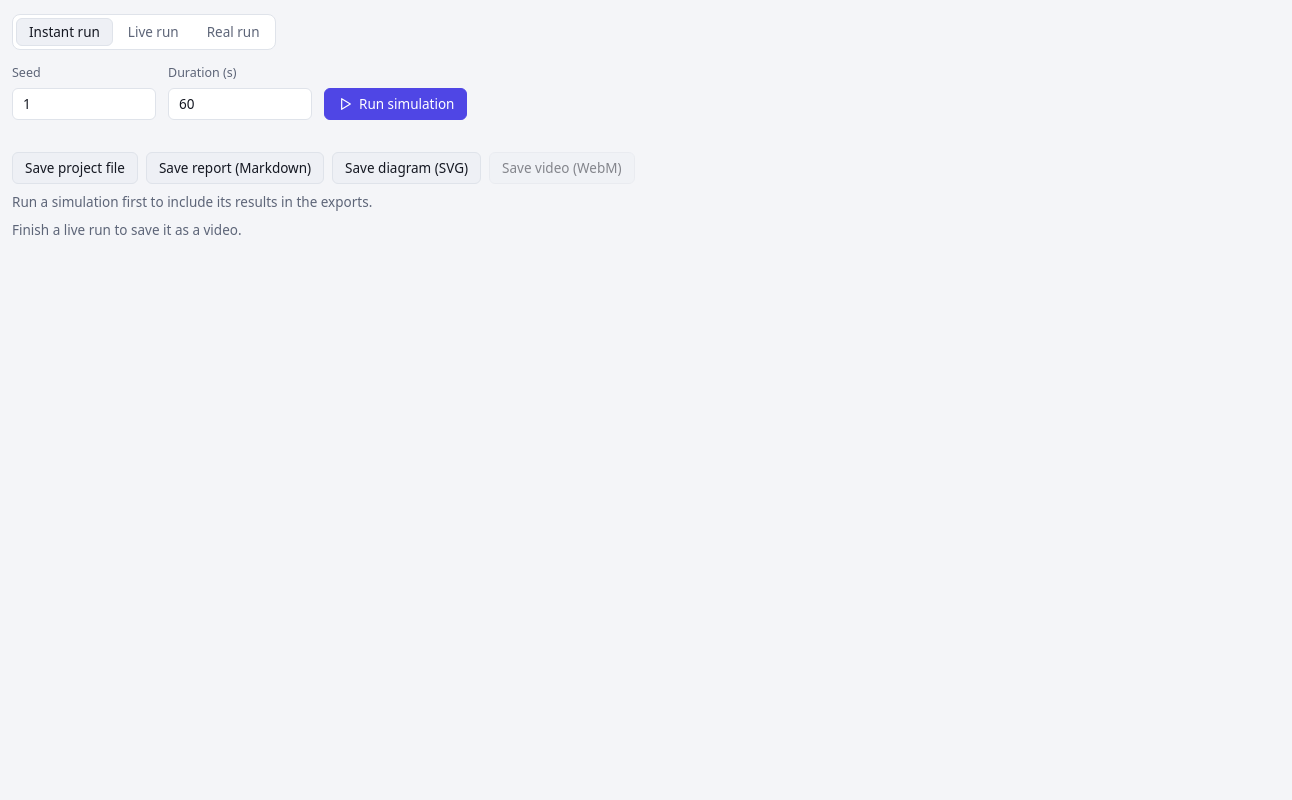
SimulateTab › switches between instant and live runs
Expected: the button "Run simulation" is shown, [324,88,467,120]
Click the button "Live run" at (153,32), box [115,18,192,46]
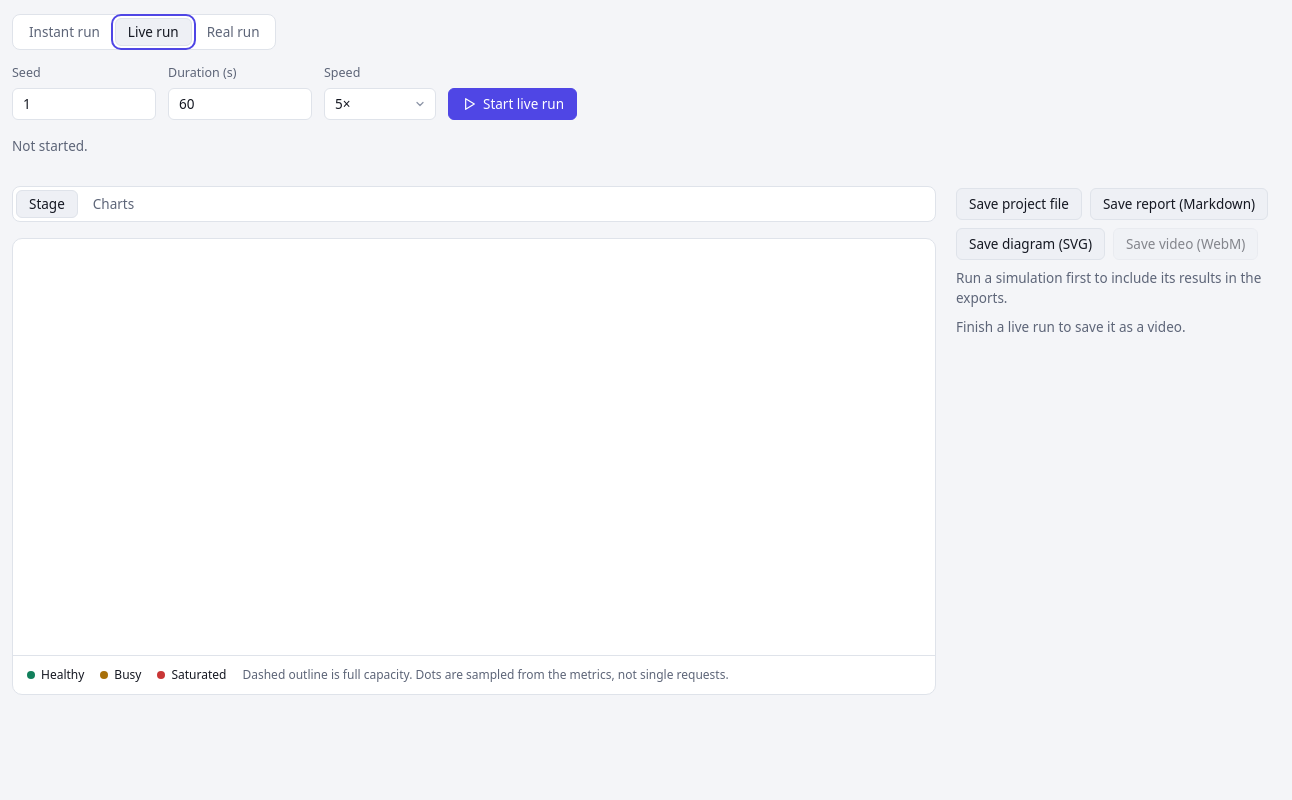
Expected: the button "Start live run" is shown, [448,88,577,120]
Expected: the button "Run simulation" is gone
